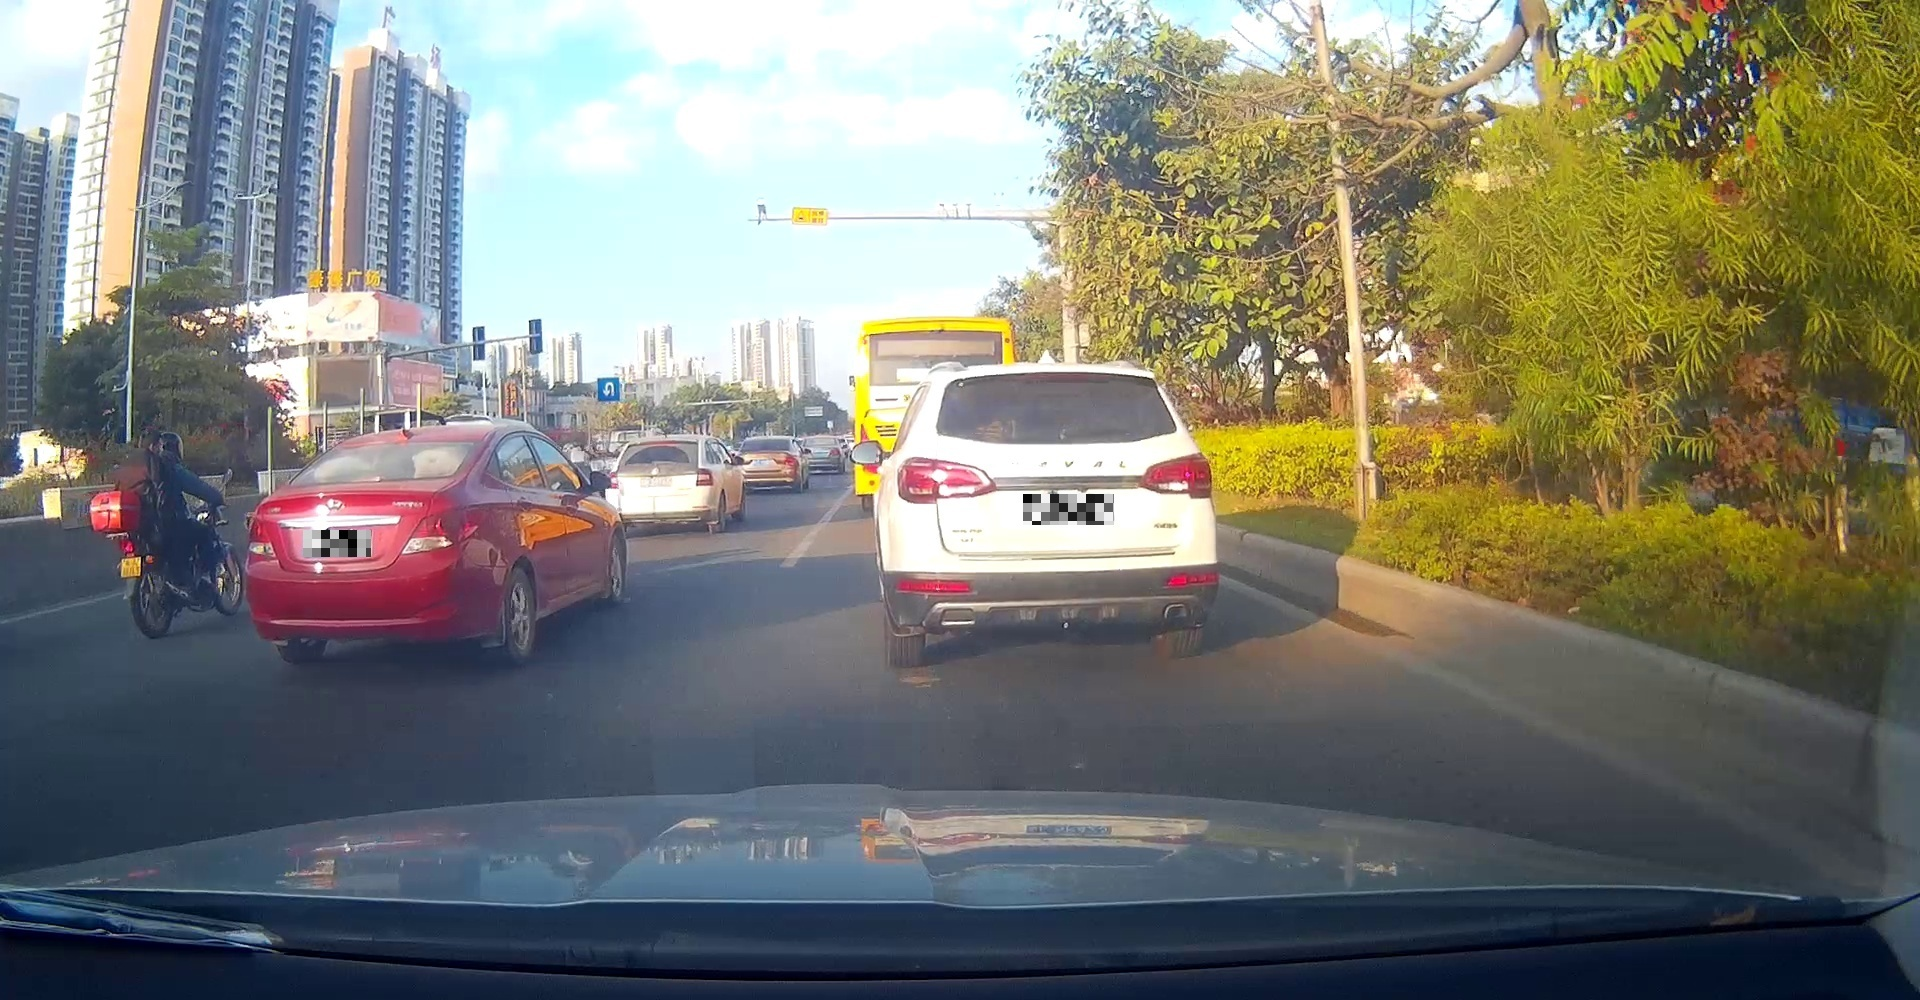L_light: (897, 457, 998, 505), (246, 515, 277, 558)
R_light: (400, 506, 491, 555), (1137, 452, 1213, 499)
T_light: (1029, 373, 1095, 382), (350, 476, 385, 482)
day-no: (883, 360, 1220, 669), (244, 425, 498, 666)
plate_1: (303, 530, 371, 557)
plate_2: (1023, 494, 1114, 525)
